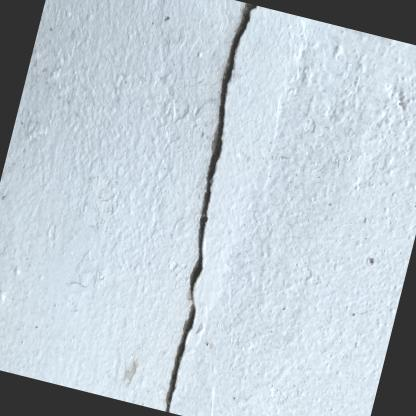crack: (164, 3, 257, 413)
